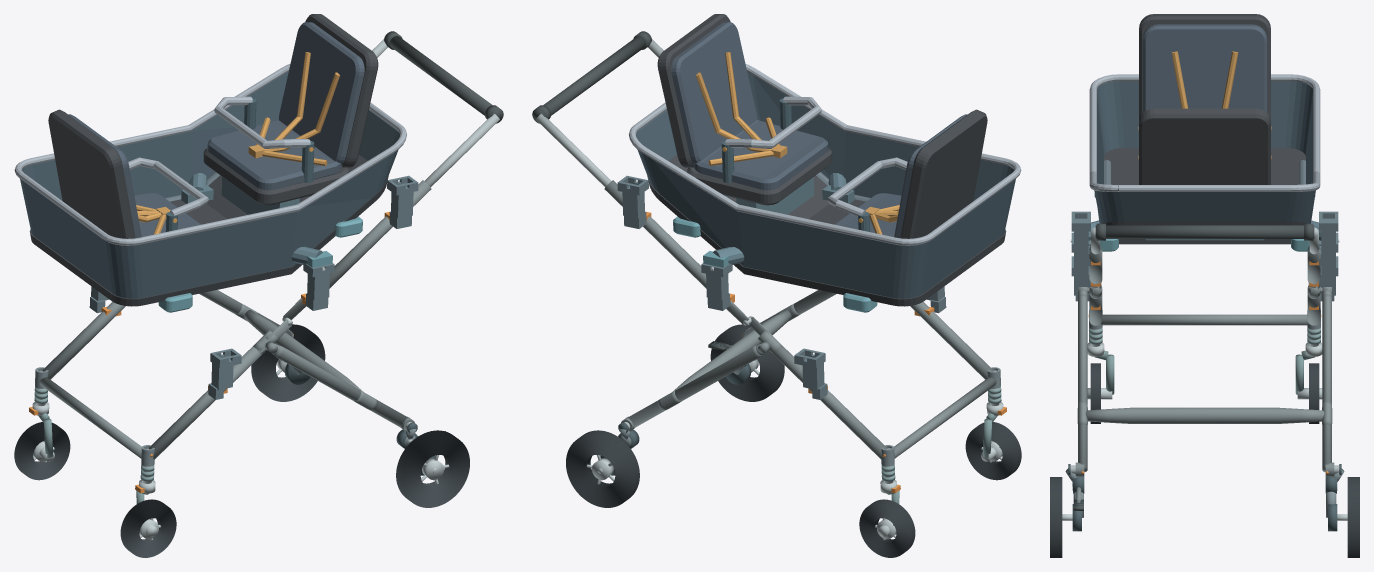
The model's file is S11_w650_state1_wheel_S.glb.
The picture shows the model from 3 angles, left to right: view 1: azimuth 30°, elevation 25°; view 2: azimuth 150°, elevation 25°; view 3: azimuth 270°, elevation 25°; orthographic projection. The views are drawn at different scales.
Parts seen in each view (by area): view 1: S11_Cabin, RL_tire.008, RR_tire.008, FL_tire.008, FR_tire.008, round_handle.008, V46_rear_leg_-1.009, main_lower_-1.009, front_fixed_round_tube.008, main_upper_-1.009, main_lower_1.009, V46_rearbar.009 (+5 smaller); view 2: S11_Cabin, RR_tire.008, FR_tire.008, RL_tire.008, FL_tire.008, round_handle.008, V46_rear_leg_1.009, main_lower_1.009, front_fixed_round_tube.008, main_upper_1.009, main_lower_-1.009, V46_rearbar.009 (+5 smaller); view 3: S11_Cabin, V46_rearbar.009, round_handle.008, front_fixed_round_tube.008, V46_rear_leg_1.009, V46_rear_leg_-1.009, RL_tire.008, RR_tire.008, Universal_Cabin_Receiver_H_1, Universal_Cabin_Receiver_H_-1, FL_tire.008, FR_tire.008 (+4 smaller).
Part boxes in pixels (x1,y1,x2,y2): S11_Cabin: (14, 14, 406, 312); RL_tire.008: (396, 430, 469, 507); RR_tire.008: (251, 324, 325, 401); FL_tire.008: (120, 499, 176, 557); FR_tire.008: (14, 422, 70, 480); round_handle.008: (389, 36, 502, 121); V46_rear_leg_-1.009: (274, 346, 407, 427); main_lower_-1.009: (148, 346, 265, 459); front_fixed_round_tube.008: (39, 377, 141, 458); main_upper_-1.009: (307, 180, 431, 293); main_lower_1.009: (42, 301, 125, 379); V46_rearbar.009: (244, 310, 362, 391); S11_Cabin: (629, 14, 1021, 312); RR_tire.008: (566, 430, 639, 507); FR_tire.008: (859, 499, 915, 557); RL_tire.008: (710, 324, 784, 401); FL_tire.008: (965, 422, 1021, 480); round_handle.008: (533, 36, 646, 121); V46_rear_leg_1.009: (628, 346, 761, 427); main_lower_1.009: (770, 346, 887, 459); front_fixed_round_tube.008: (894, 377, 996, 458); main_upper_1.009: (604, 180, 728, 293); main_lower_-1.009: (910, 301, 993, 379); V46_rearbar.009: (673, 310, 791, 391); S11_Cabin: (1089, 14, 1320, 251); V46_rearbar.009: (1085, 407, 1324, 423); round_handle.008: (1095, 225, 1314, 238); front_fixed_round_tube.008: (1100, 314, 1309, 325); V46_rear_leg_1.009: (1322, 294, 1331, 472); V46_rear_leg_-1.009: (1078, 294, 1087, 472); RL_tire.008: (1050, 477, 1062, 557); RR_tire.008: (1347, 477, 1359, 557); Universal_Cabin_Receiver_H_1: (1319, 211, 1338, 265); Universal_Cabin_Receiver_H_-1: (1071, 211, 1090, 265); FL_tire.008: (1090, 363, 1100, 423); FR_tire.008: (1309, 363, 1319, 423).
Size of the model in its own units: 1.15 by 1.19 by 0.766.
